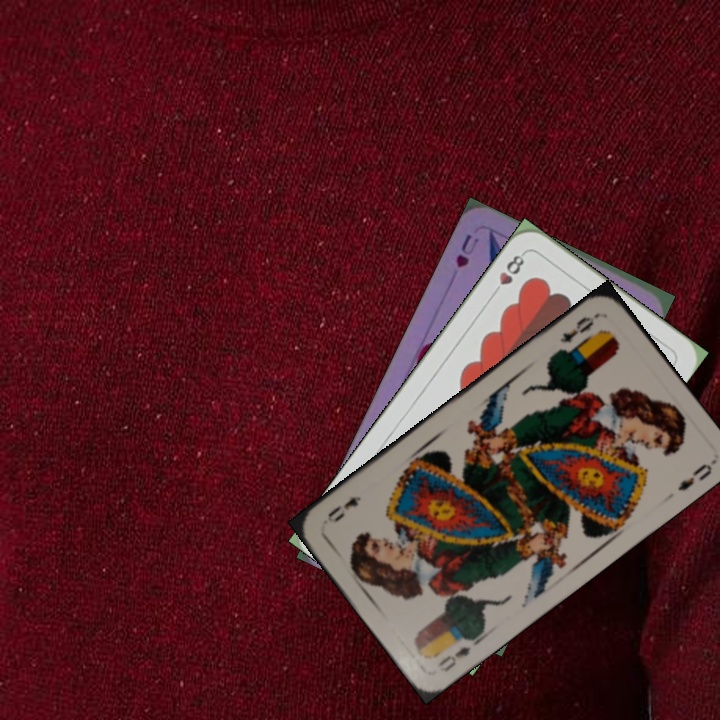EO: (433, 632, 483, 675), (556, 310, 601, 346)
H8: (488, 248, 528, 299)
HU: (451, 229, 482, 271)
